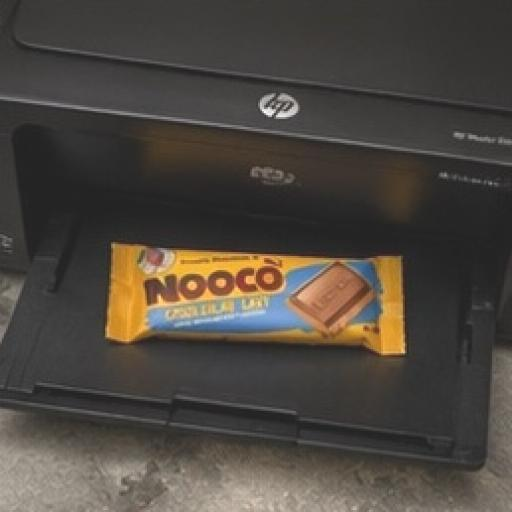biscuit-detection: (43, 146, 459, 386)
